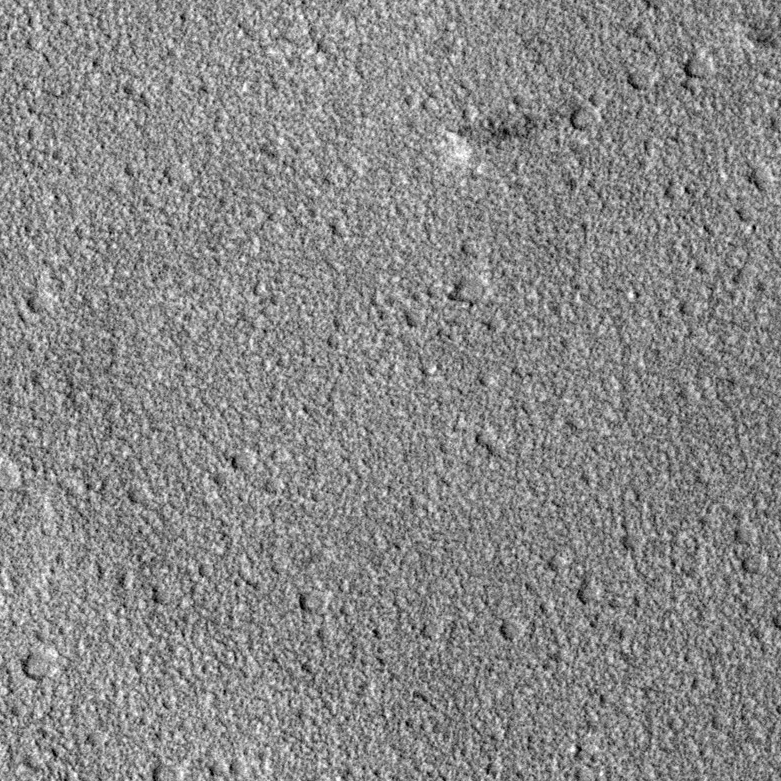dust_devil: (432, 102, 572, 165)
